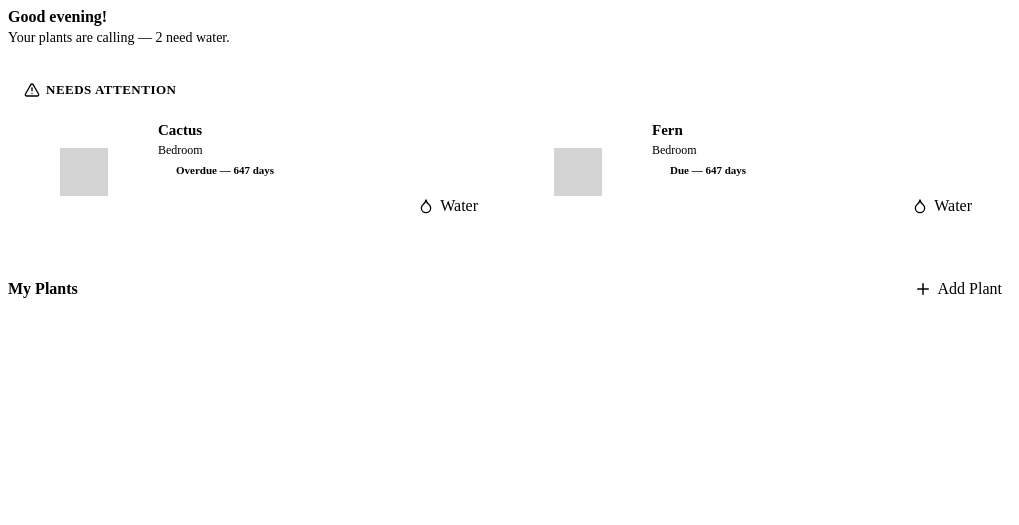
attention card water action › removes plant from attention section after watering to ok
Expected: the number of links with class "attention-card-name" is 2, [158,122,202,139]; [652,122,683,139]
Click the button "Water" below "Overdue" at (448, 206), box [404,190,492,221]
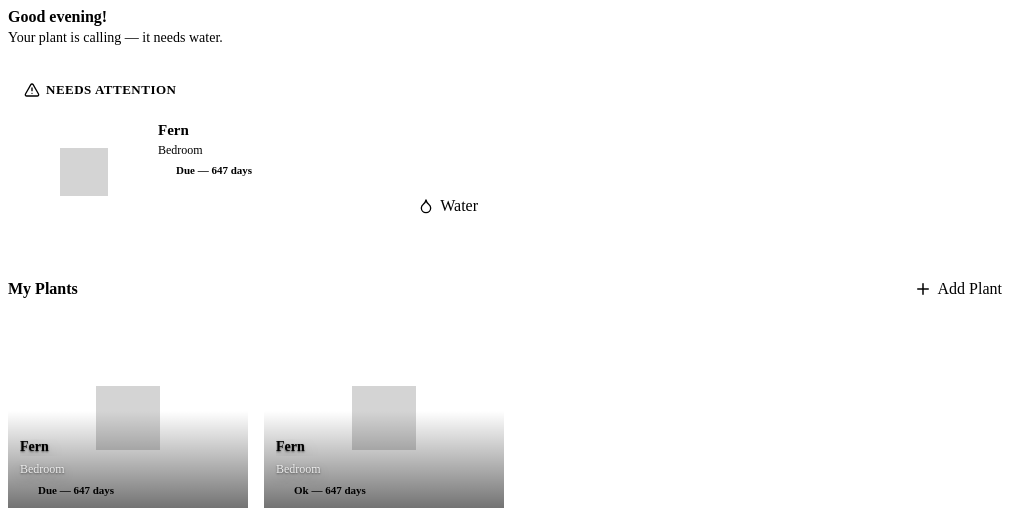
Result: the number of links with class "attention-card-name" is 1 at [158,122,189,139]
